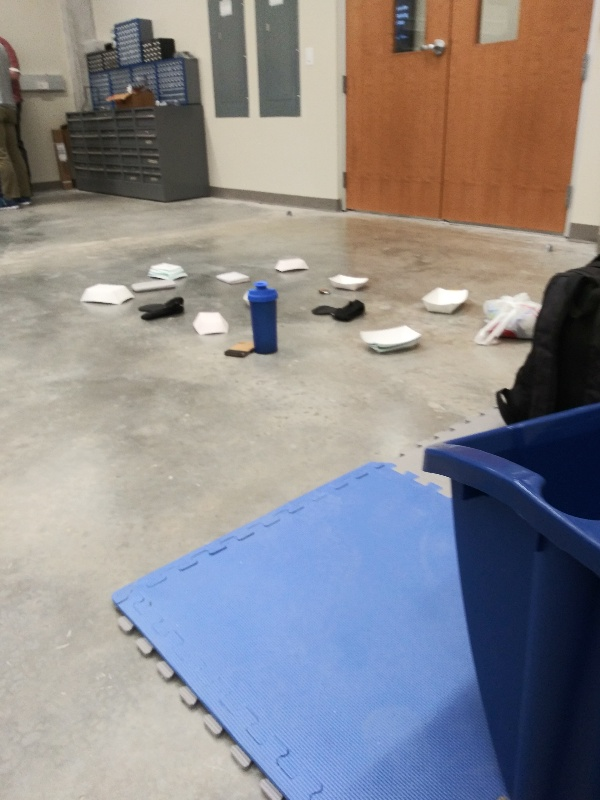plate: (357, 317, 428, 354), (416, 283, 475, 317), (77, 277, 137, 309), (189, 308, 234, 336), (141, 259, 191, 280), (325, 270, 372, 291), (267, 254, 310, 271)
